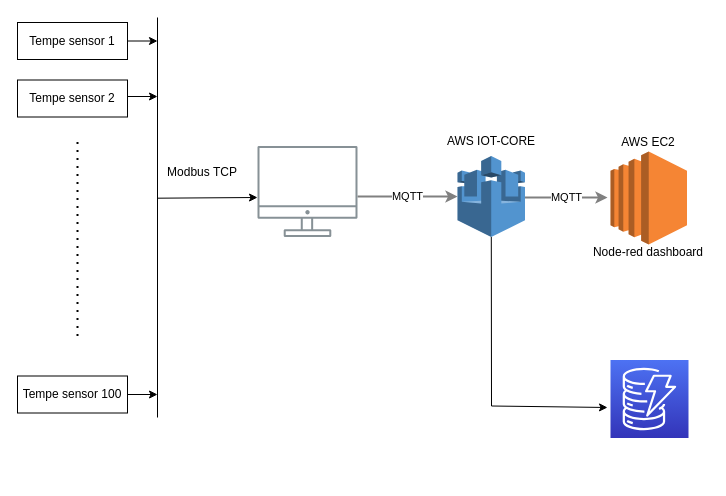
This 726x496 diagram has some shape labels left out. Each missing label, with the centre of its shape:
"AWS DynamoDB" goes at (649,398).
"Node-red" goes at (307,191).
